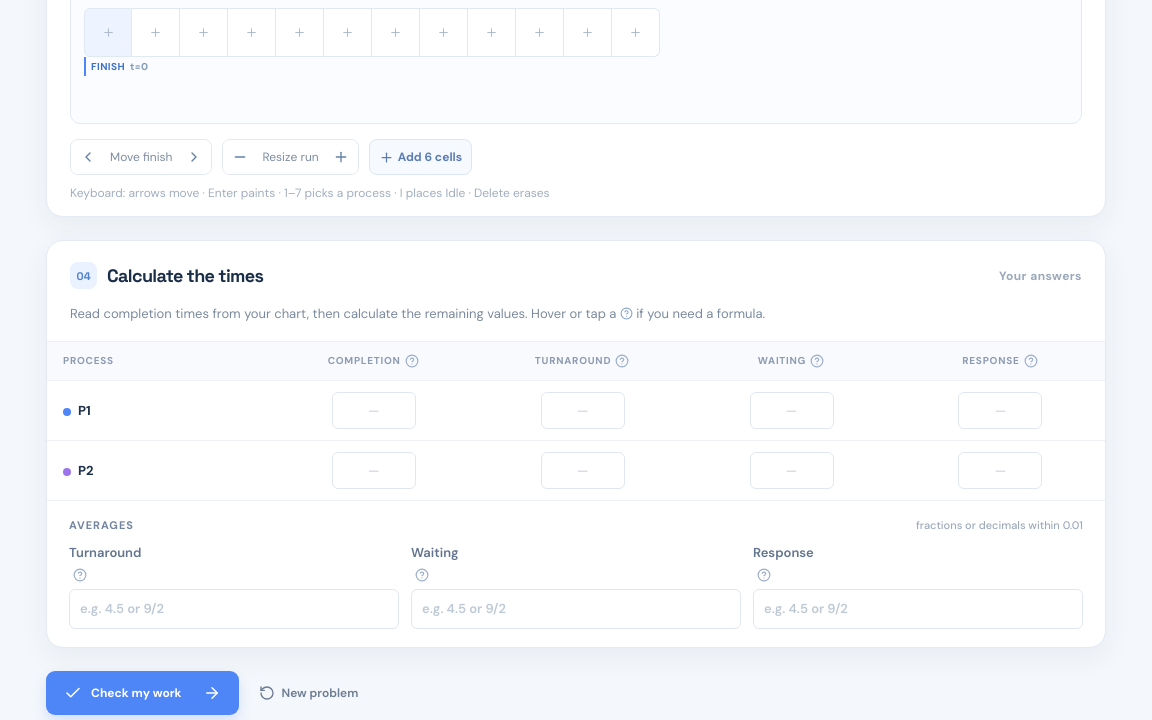
Test: timeline and grading › keeps formula help hidden until activated by touch or focus
(page scrolled)
What coordinates should you click on to do the following:
click the button named "Show completion formula"
I would click on:
 (412, 361)
Its box is [404,353,420,369].
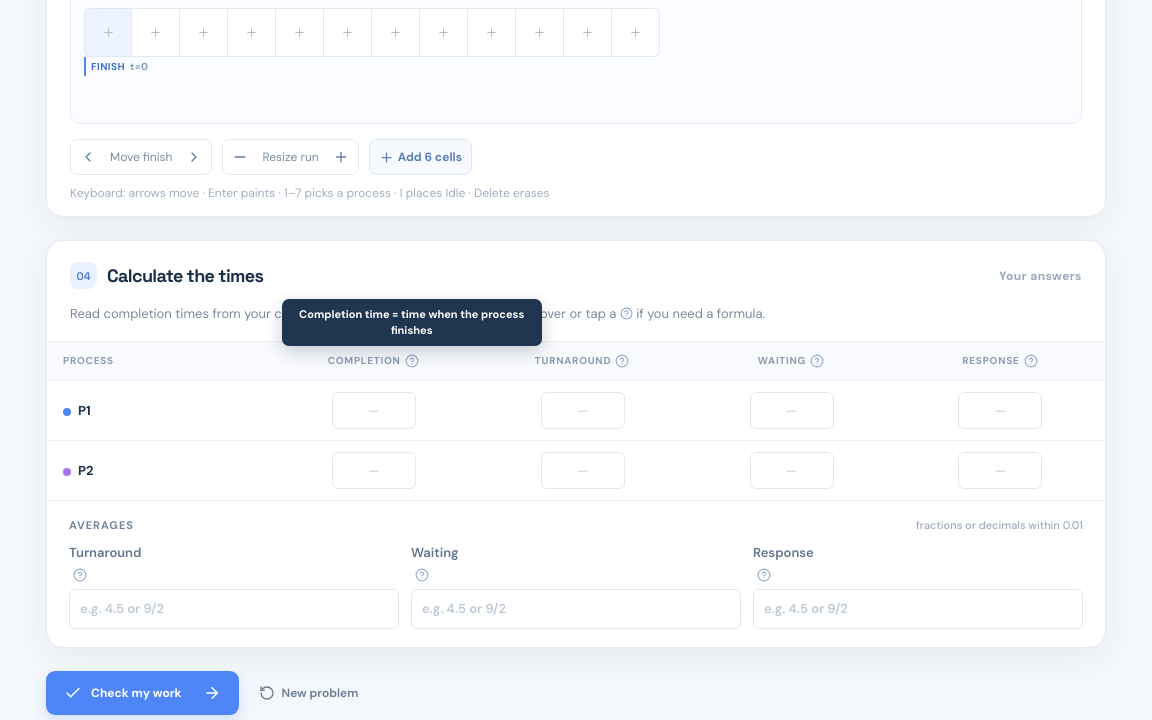
expect the tooltip "Completion time = time when the process finishes" is shown: met, box [282,299,542,346]
